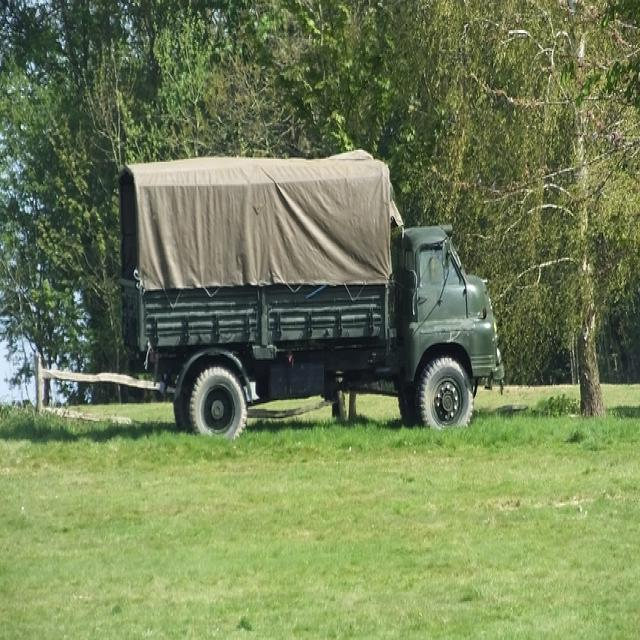Vehicle: (119, 151, 503, 444)
